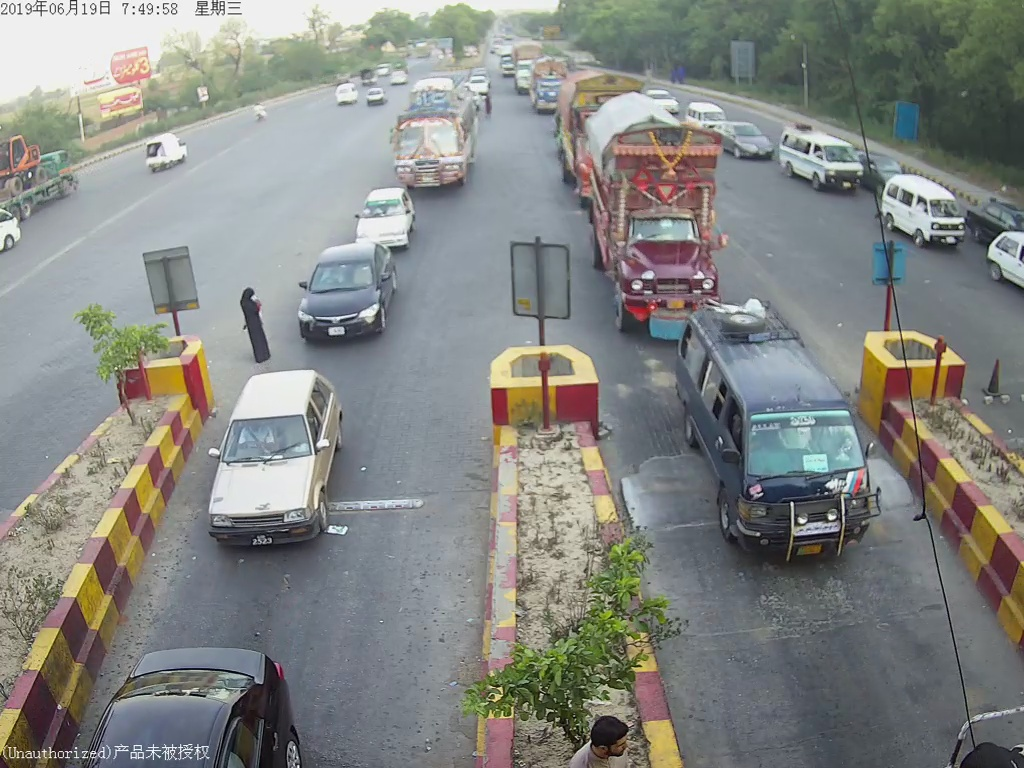Cat-1: (198, 361, 354, 554), (286, 239, 396, 340), (347, 182, 415, 247)
Cat-2: (675, 298, 881, 558)
Cat-3: (387, 73, 478, 189)
Cat-4: (588, 93, 731, 334)
